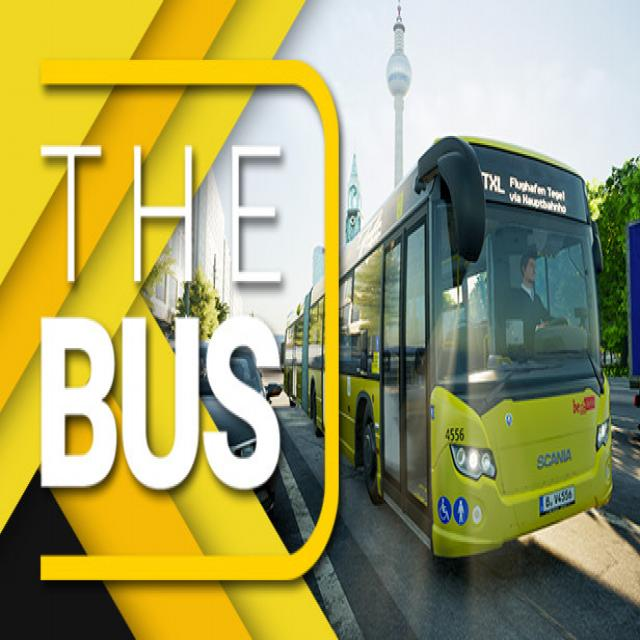bus: (310, 144, 622, 559)
